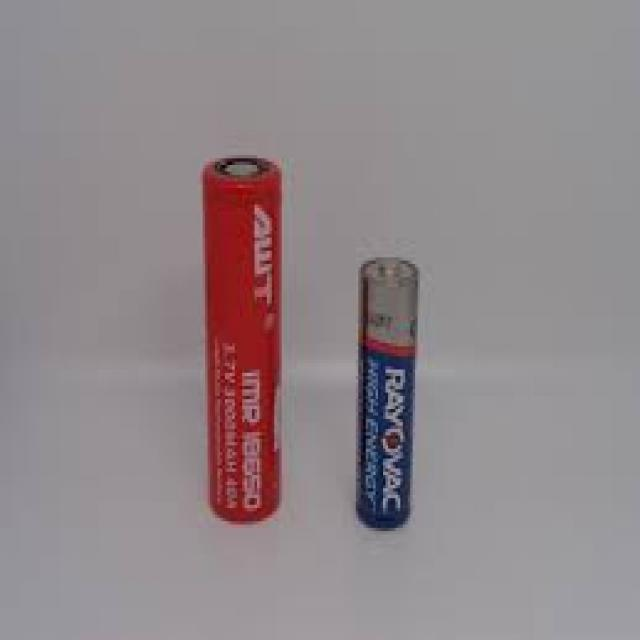battery: (206, 152, 284, 521), (361, 258, 417, 538)
